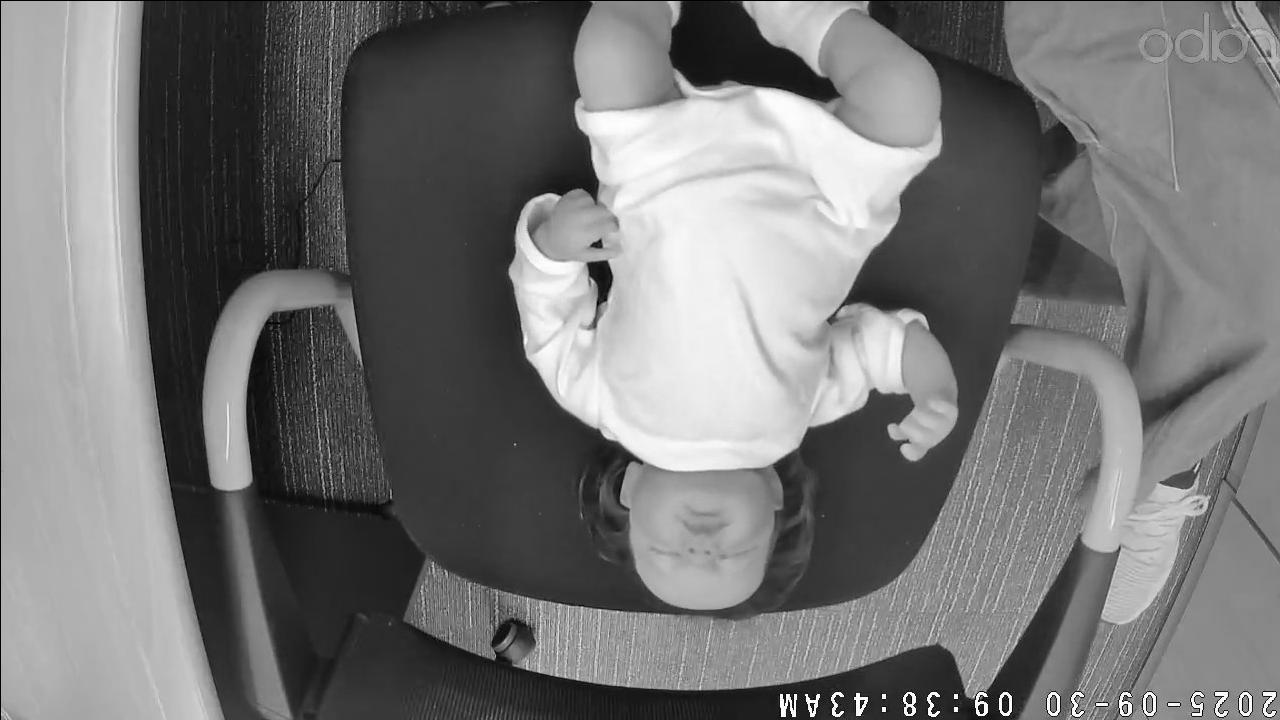hand: (542, 188, 622, 263), (883, 391, 960, 458)
